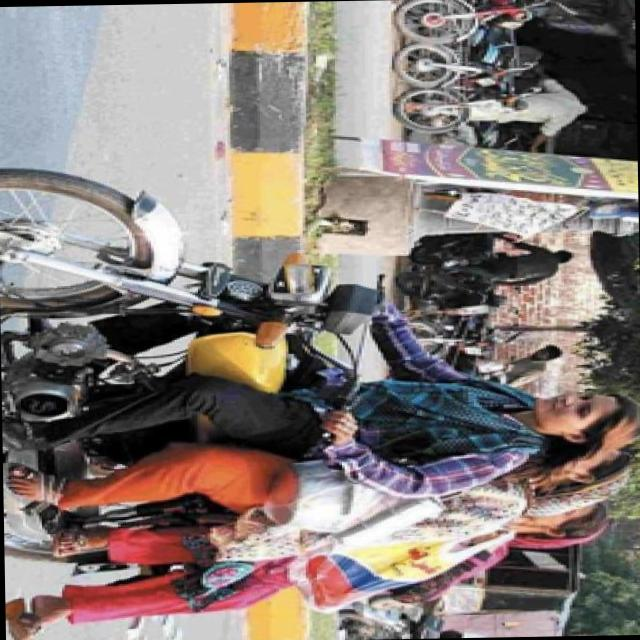bareface: (514, 381, 640, 460)
